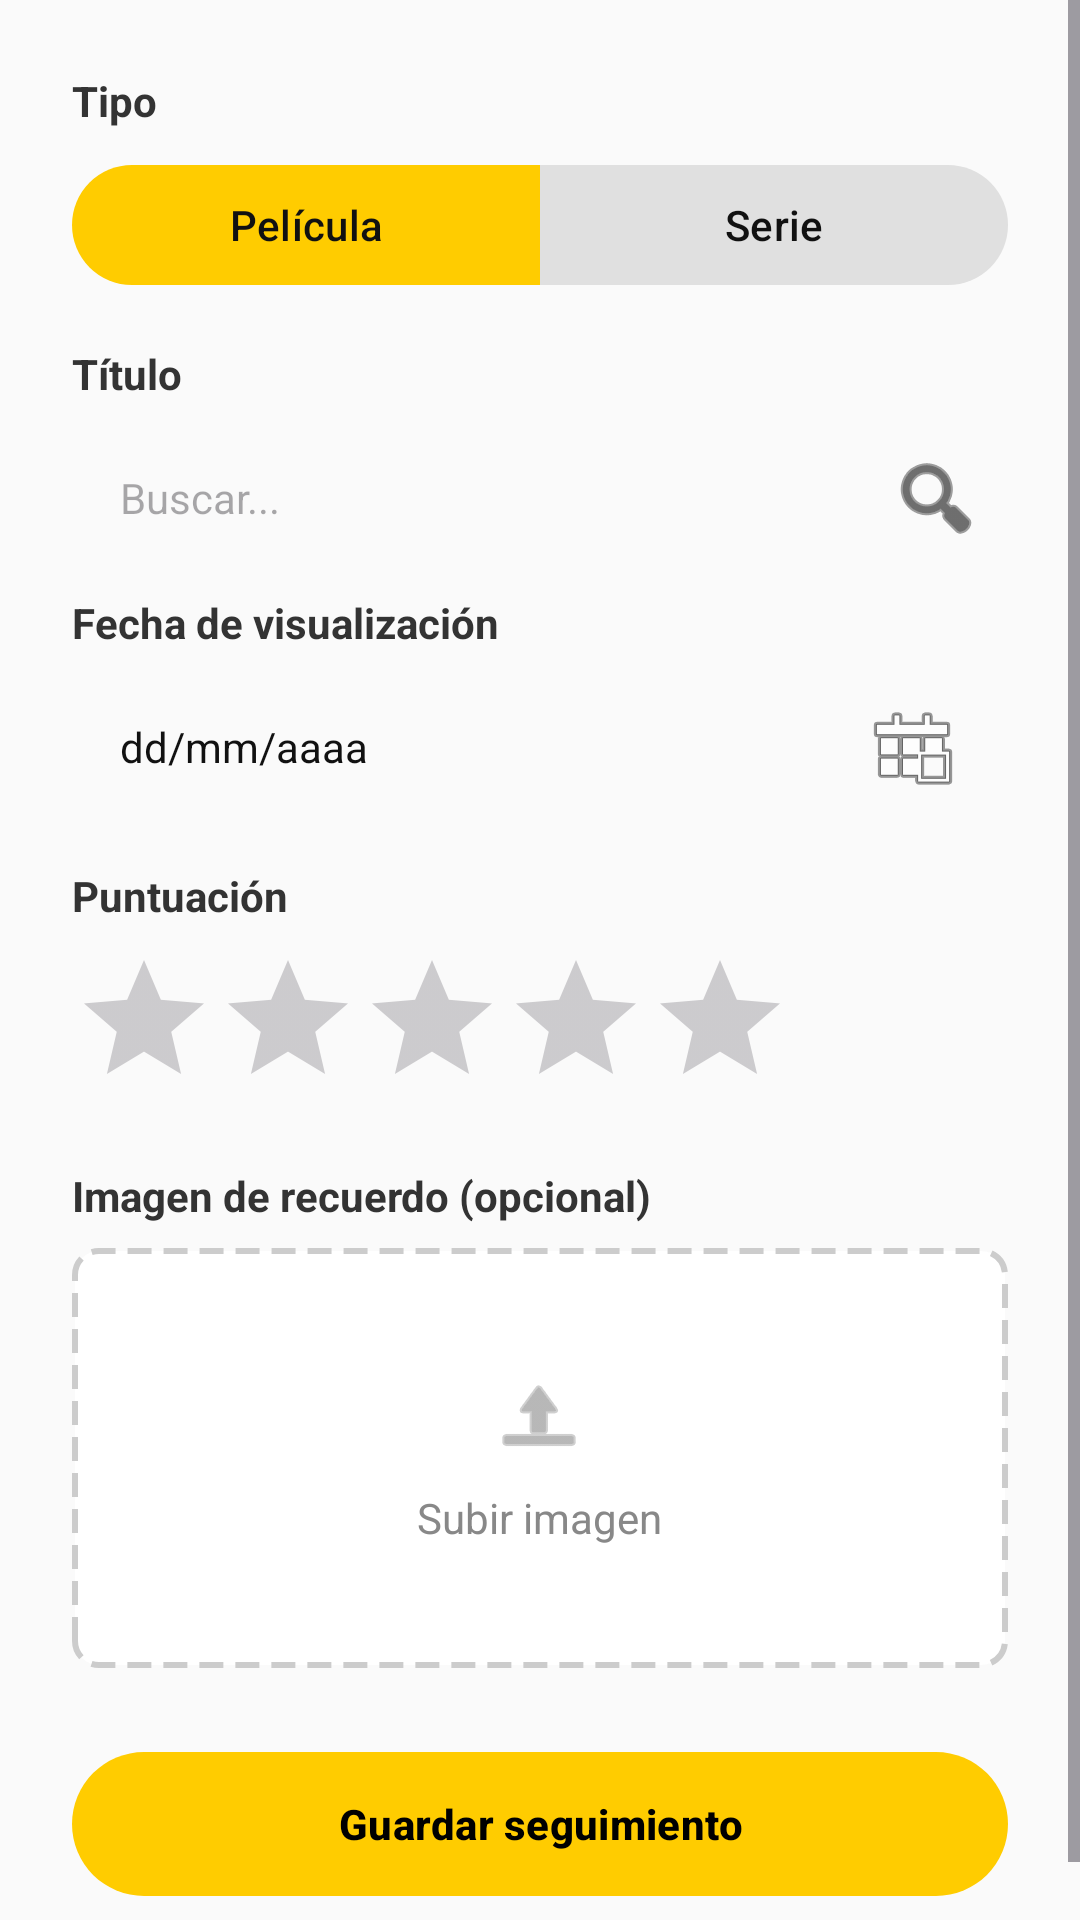

Icon click points for this 1080w x 1920h phone screenshot, format point (x, y):
search: point (936, 498)
upload: point (539, 1415)
